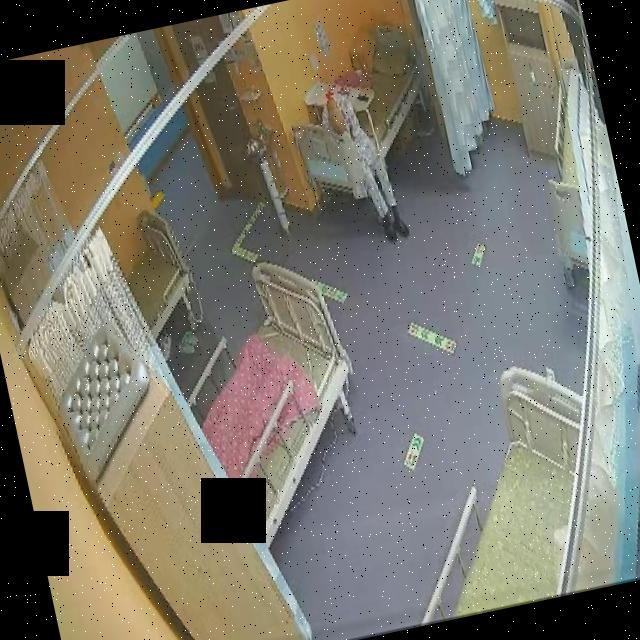bed: (373, 351, 622, 625), (172, 251, 378, 550), (276, 20, 444, 208), (113, 204, 203, 344)
patient: (316, 80, 412, 252)
sit: (316, 81, 412, 251)
